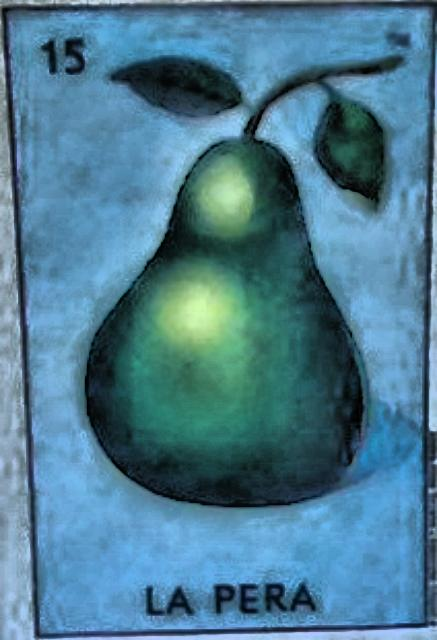La Pera: (5, 8, 432, 624)
